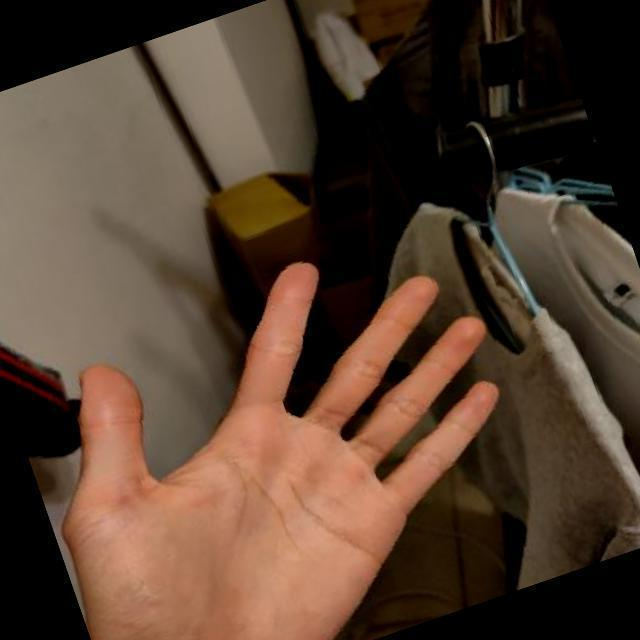hand: (0, 190, 592, 640)
